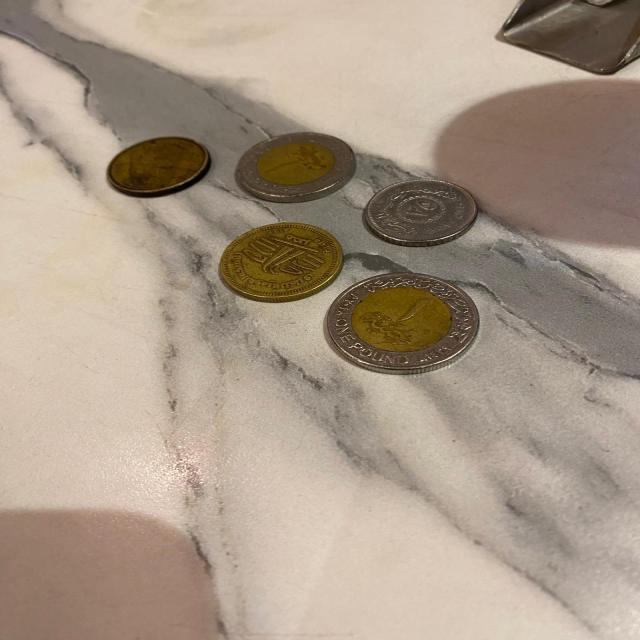Half Pound: (216, 218, 348, 304), (106, 136, 211, 197)
One Pound: (320, 270, 484, 377)
quarter pound: (365, 174, 483, 248), (235, 133, 358, 203)
